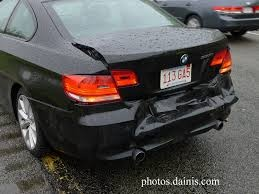Dent: (73, 37, 238, 142)
